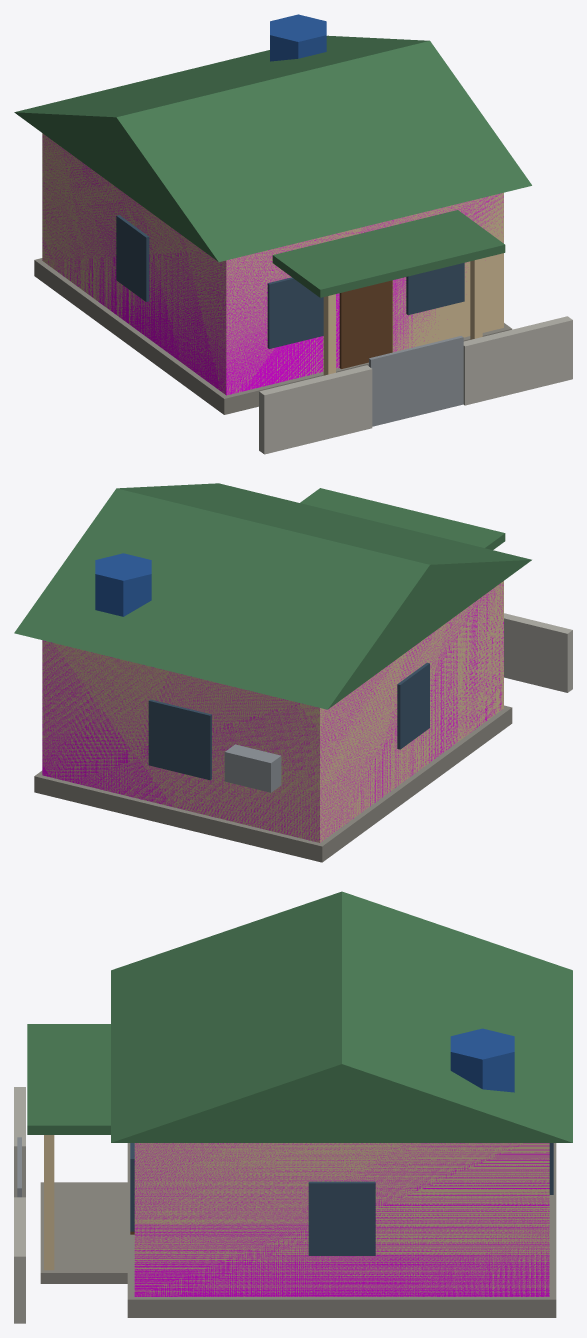
The model's file is House_1S_02.glb.
The picture shows the model from 3 angles, top to bottom: view 1: azimuth 30°, elevation 25°; view 2: azimuth 150°, elevation 25°; view 3: azimuth 270°, elevation 25°; orthographic projection. The views are drawn at different scales.
Parts seen in each view (by area): view 1: House_1S_02, House_1S_02_COL; view 2: House_1S_02, House_1S_02_COL; view 3: House_1S_02, House_1S_02_COL.
Boxes of the visible parts, x1,y1,x2,y2 form: House_1S_02: [14, 14, 572, 454]; House_1S_02_COL: [42, 134, 503, 395]; House_1S_02: [14, 483, 572, 862]; House_1S_02_COL: [42, 583, 503, 842]; House_1S_02: [14, 891, 572, 1323]; House_1S_02_COL: [134, 1143, 549, 1296].
Size of the model in its own units: 6.1 by 4.3 by 8.35.
